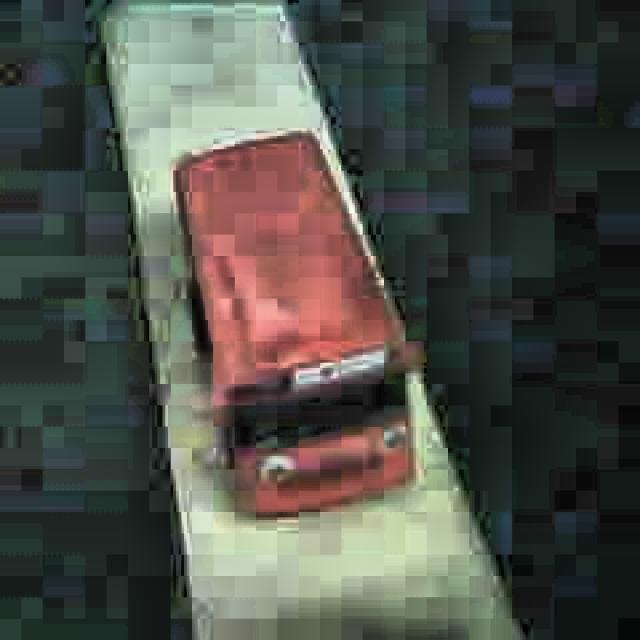bus: (172, 128, 422, 523)
